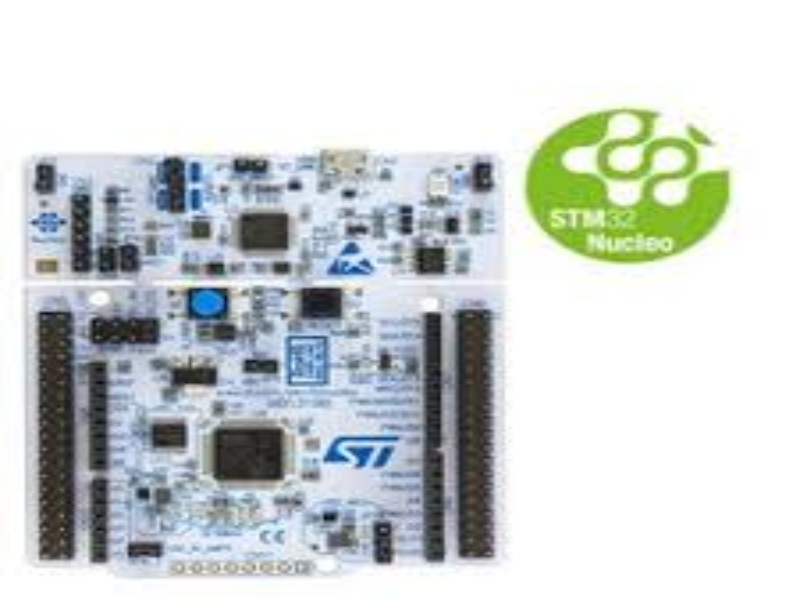stmnucleo: (14, 141, 524, 584)
